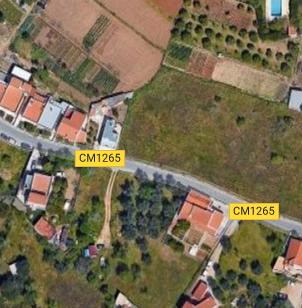pool: (269, 0, 284, 18)
